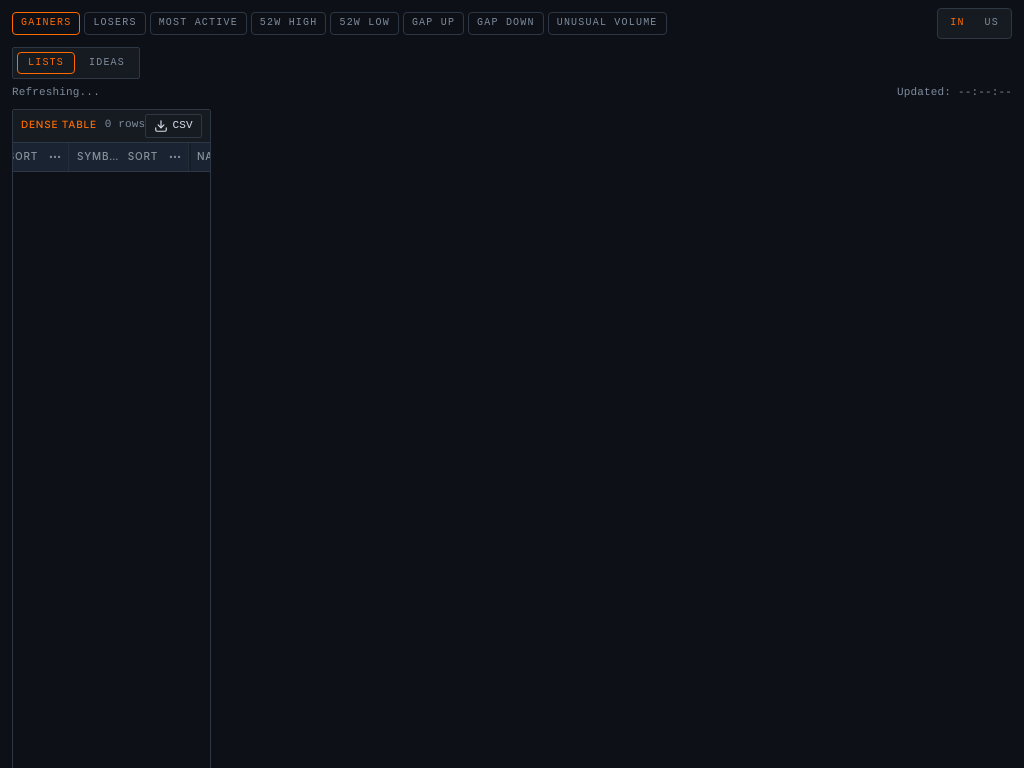
Scenario: Hotlists Ideas board › toggles to the ideas view and writes ?view=ideas to the URL
Click the button "Ideas": (107, 63) 79,52 -> 135,73
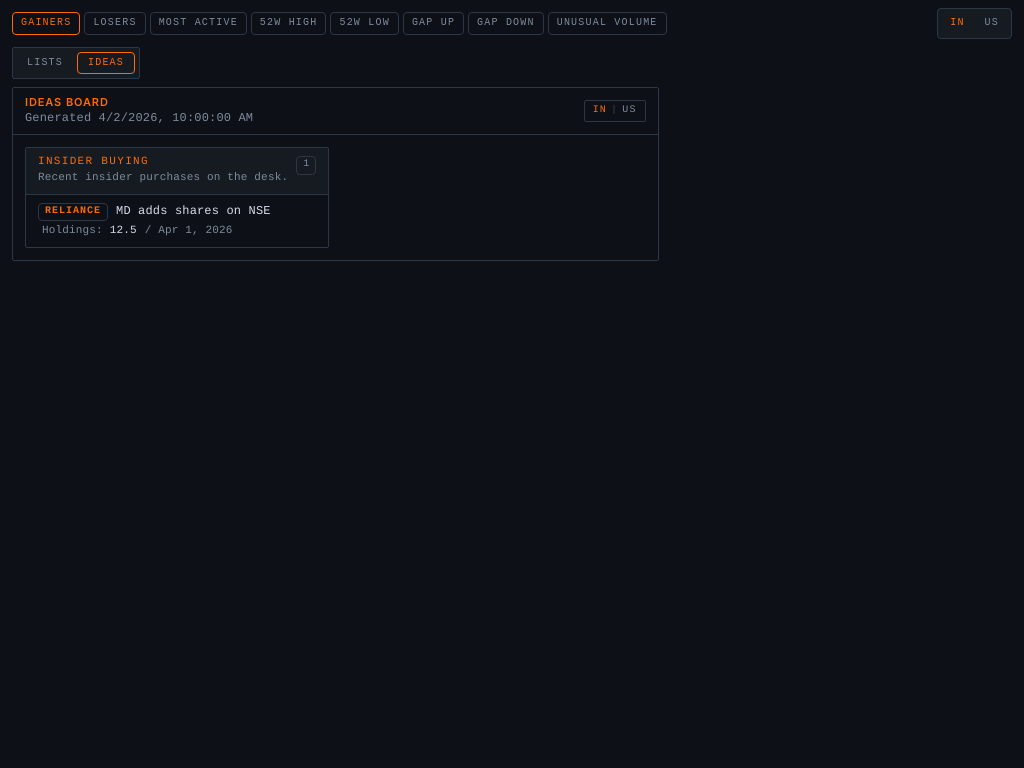
Expected: the text "Insider Buying" is shown, 38,156 -> 149,168
Expected: the link "RELIANCE" is shown, 38,203 -> 108,221
Click the button "Lists": (45, 63) 17,52 -> 73,73
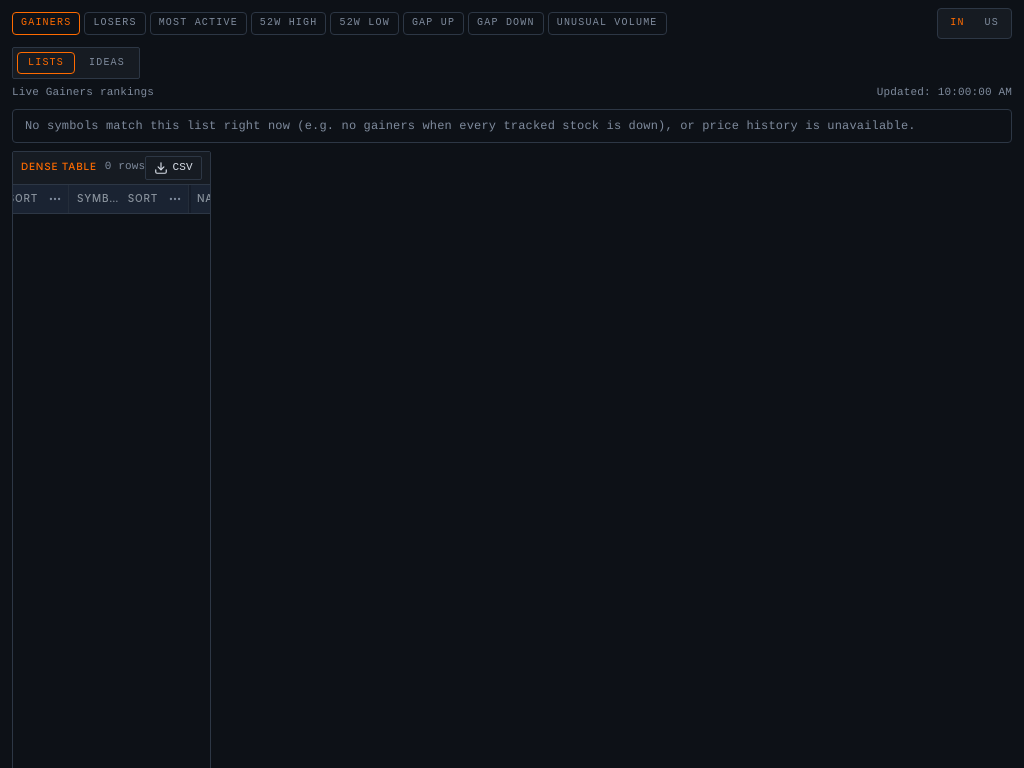
Expected: the text "Insider Buying" is gone
